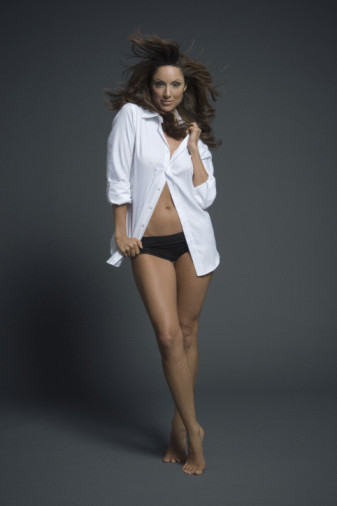em pe: (79, 45, 235, 456)
